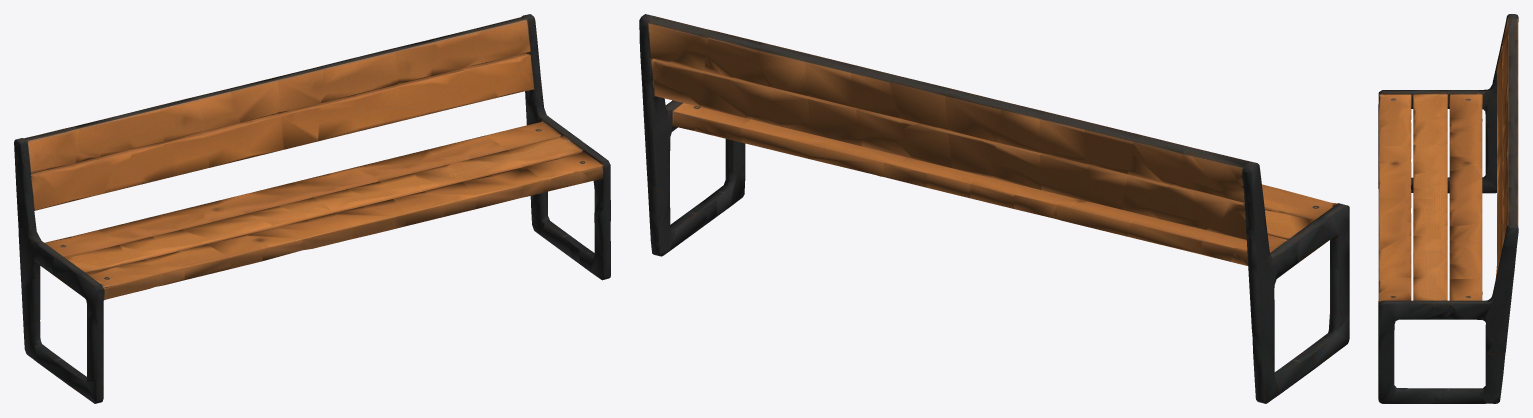
File: benchw_lod1.glb
The picture shows the model from 3 angles, left to right: view 1: azimuth 30°, elevation 25°; view 2: azimuth 150°, elevation 25°; view 3: azimuth 270°, elevation 25°; orthographic projection. The views are drawn at different scales.
Visible parts, largest first — view 1: mesh_node; view 2: mesh_node; view 3: mesh_node.
Part boxes in pixels (left/top/right/bottom): mesh_node: left=14, top=14, right=610, bottom=403; mesh_node: left=639, top=14, right=1349, bottom=403; mesh_node: left=1378, top=14, right=1518, bottom=403.
Size of the model in its own units: 1.9 by 0.7332 by 0.5285.
Materials: 1 (1 with a texture image).
